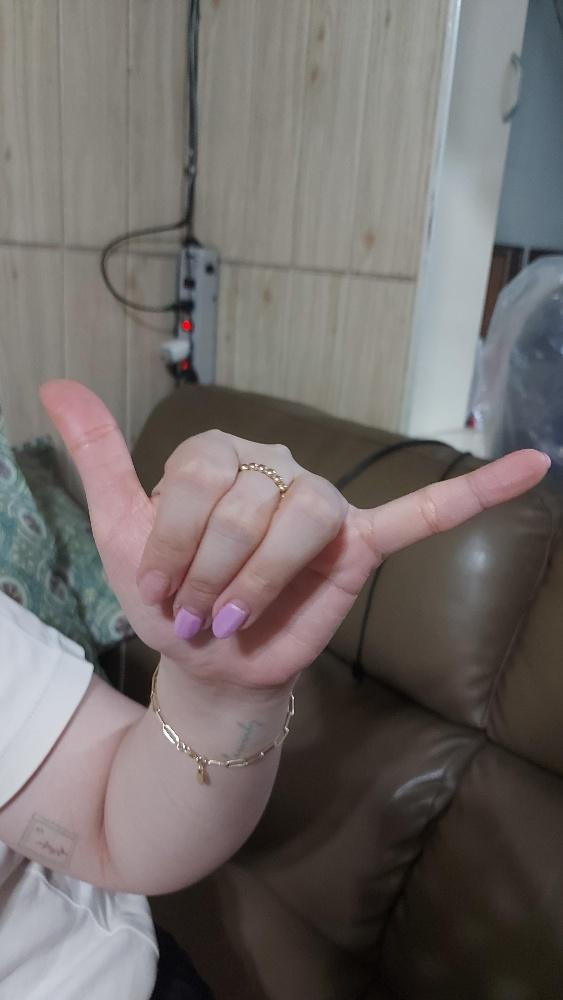y: (37, 377, 550, 690)
